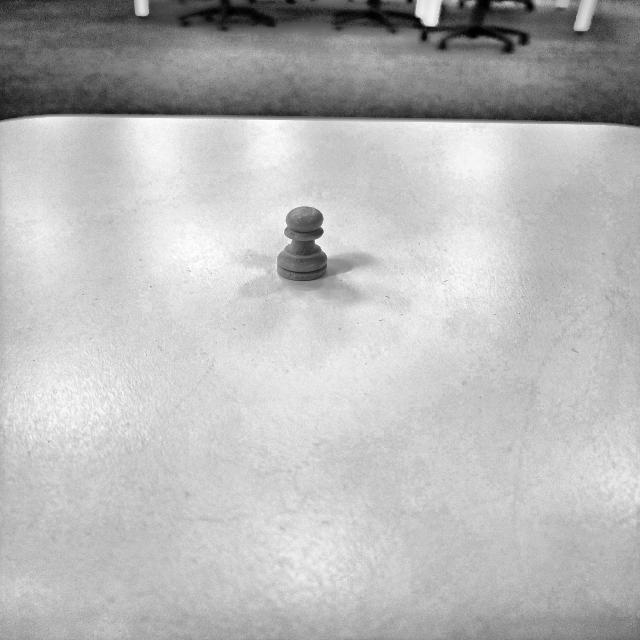white-pawn: (278, 206, 328, 283)
